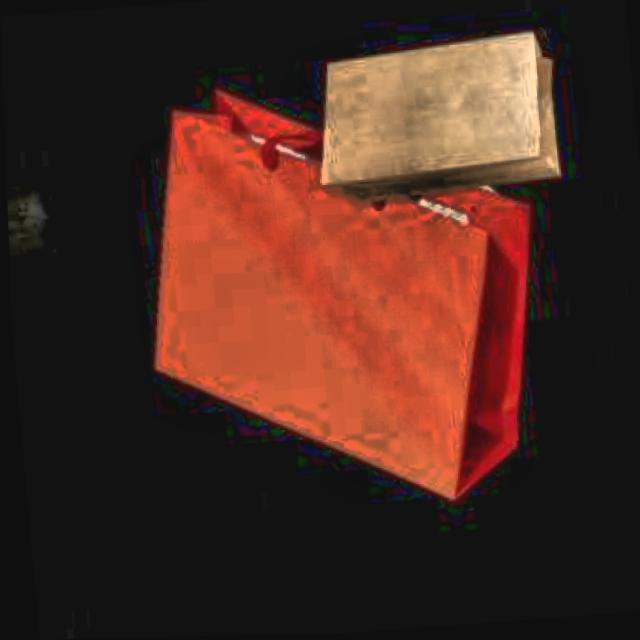Paper-bag: (121, 61, 565, 528), (298, 28, 579, 213)
